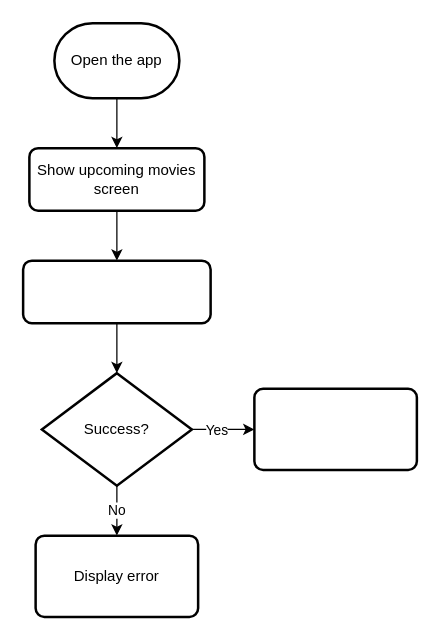
Some shapes in this 439 by 639 pixel diagram are drawn without their labels. Each missing label, with the centre of its shape:
Display upcoming movies list: pixel 335 429
Fetch upcoming movies from remote: pixel 116 291
